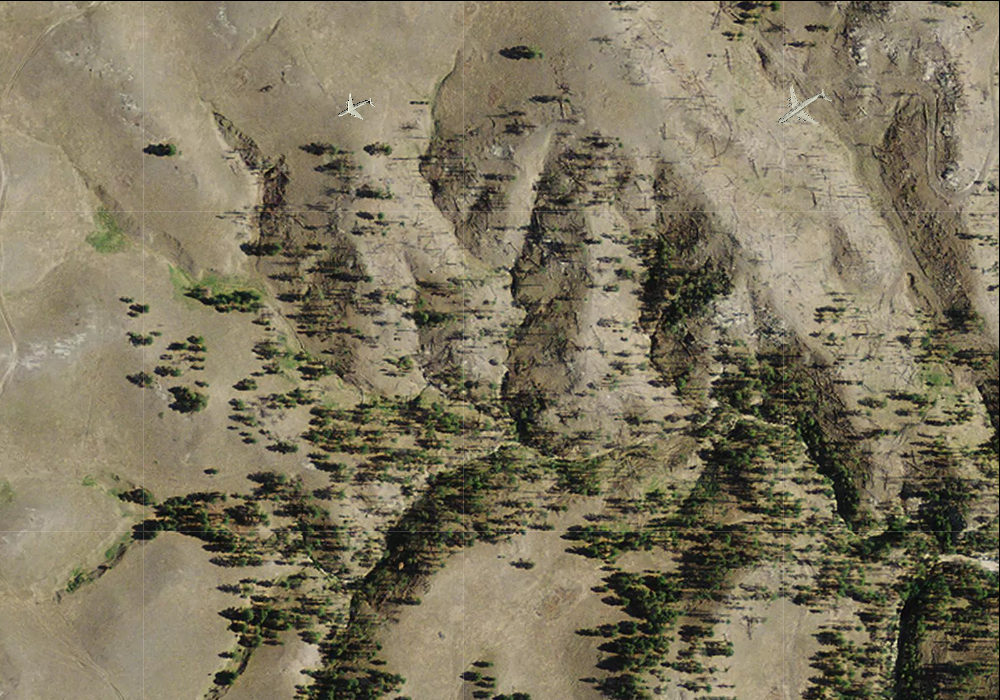plane: (764, 69, 842, 146), (330, 83, 380, 132)
